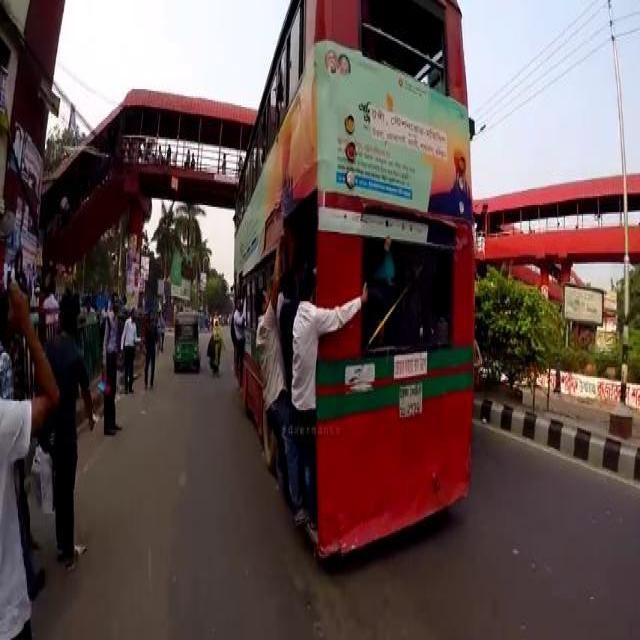bus: (232, 0, 474, 562)
three wheelers -CNG-: (170, 306, 200, 366)
